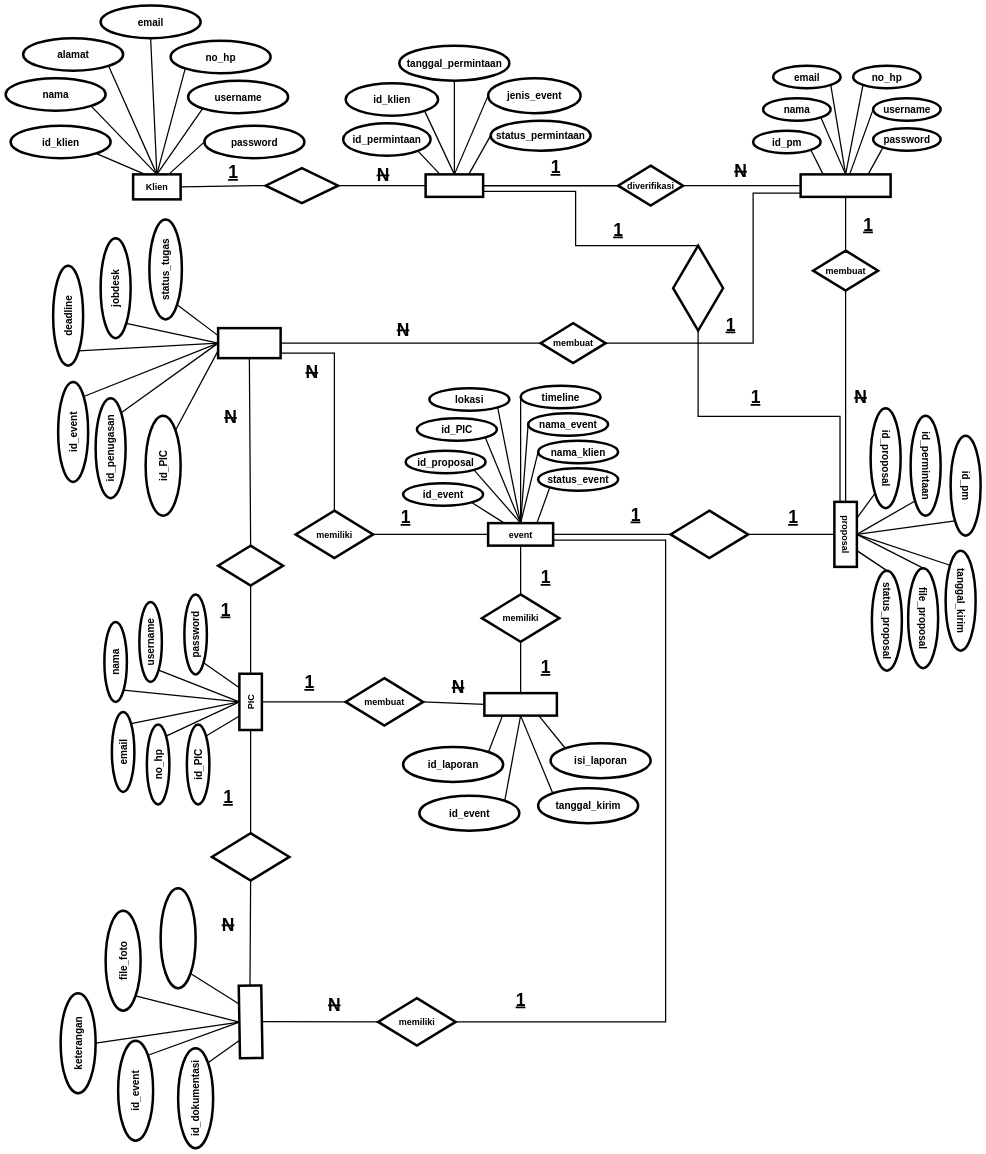
The diagram is 986 pixels wide and 1154 high, and some of its shapes have lost their labels. Each missing label, with the box of its shape:
dikonfirmasi: (669, 509, 749, 559)
ditugaskan: (217, 544, 284, 587)
dokumentasi: (237, 984, 264, 1059)
laporan event: (483, 692, 558, 717)
mengajukan: (264, 167, 339, 204)
menghasilkan: (672, 244, 724, 332)
mengunggah: (210, 832, 290, 882)
penugasan PIC: (217, 327, 282, 359)
permintaan event: (424, 173, 484, 198)
project_manager: (799, 173, 892, 198)
tanggal_upload: (159, 887, 197, 989)
